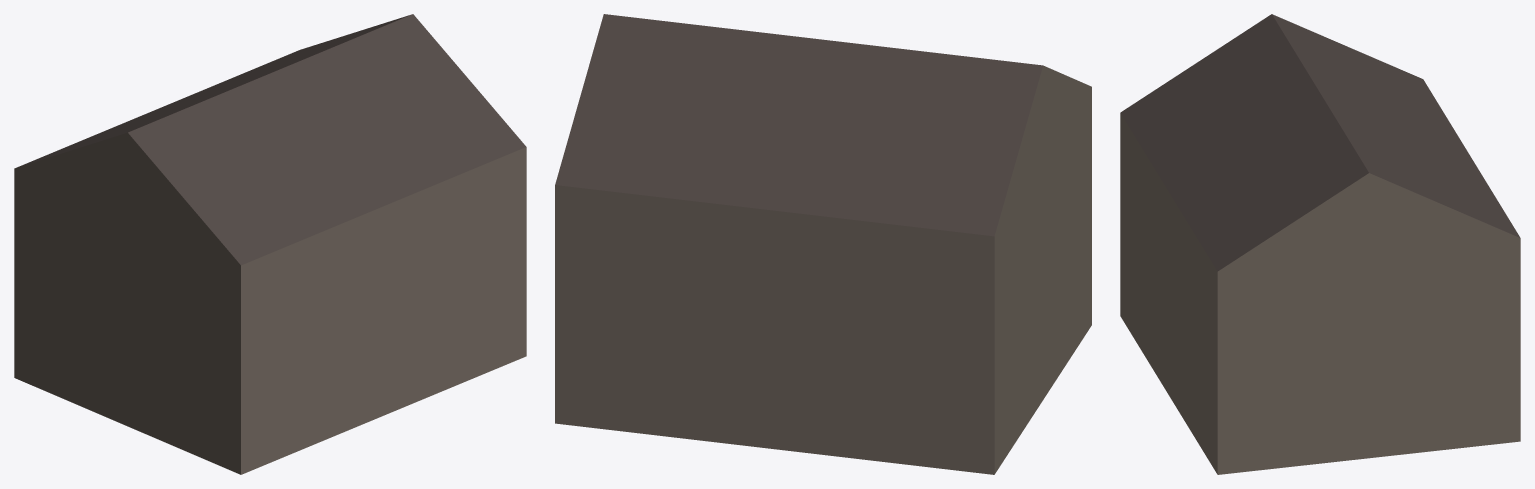
The picture shows the model from 3 angles, left to right: view 1: azimuth 30°, elevation 25°; view 2: azimuth 150°, elevation 25°; view 3: azimuth 270°, elevation 25°; orthographic projection. The views are drawn at different scales.
Parts seen in each view (by area): view 1: HP-w1198842231; view 2: HP-w1198842231; view 3: HP-w1198842231.
Boxes of the visible parts, left/top/right/bottom form: HP-w1198842231: left=14, top=14, right=526, bottom=474; HP-w1198842231: left=555, top=14, right=1091, bottom=474; HP-w1198842231: left=1120, top=14, right=1520, bottom=474.
Size of the model in its own units: 12.18 by 8.42 by 10.71.
